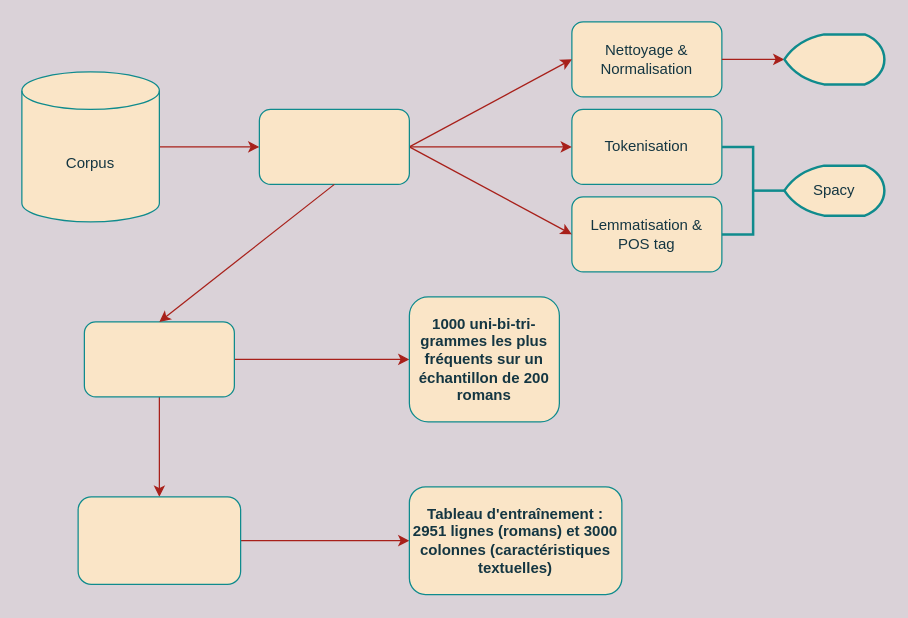
Image size: 908x618. Some labels were removed from this diagram. Here are the shapes that lost their labels. From the top down, the centre of each, then its label:
At [833,58]: "Unicode".
At [333,146]: "Pré-traitement".
At [158,359]: "Choix des caractéristiques textuelles".
At [159,540]: "Récupération des fréquences relatives sur tout le corpus".
